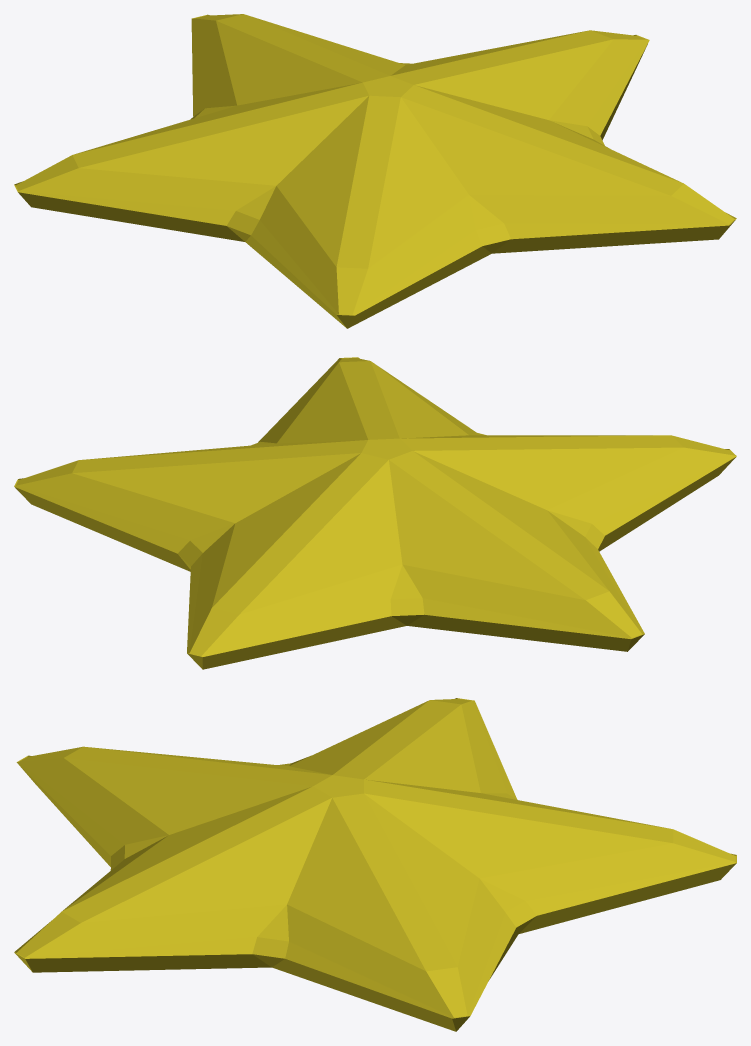
File: Star.fbx
The picture shows the model from 3 angles, top to bottom: view 1: azimuth 30°, elevation 25°; view 2: azimuth 150°, elevation 25°; view 3: azimuth 270°, elevation 25°; orthographic projection. The views are drawn at different scales.
Visible parts, largest first — view 1: Star.001; view 2: Star.001; view 3: Star.001.
Part boxes in pixels (x1,y1,x2,y2): Star.001: [14, 14, 736, 328]; Star.001: [14, 357, 736, 669]; Star.001: [14, 698, 736, 1031].
Size of the model in its own units: 207 by 45.99 by 197.
